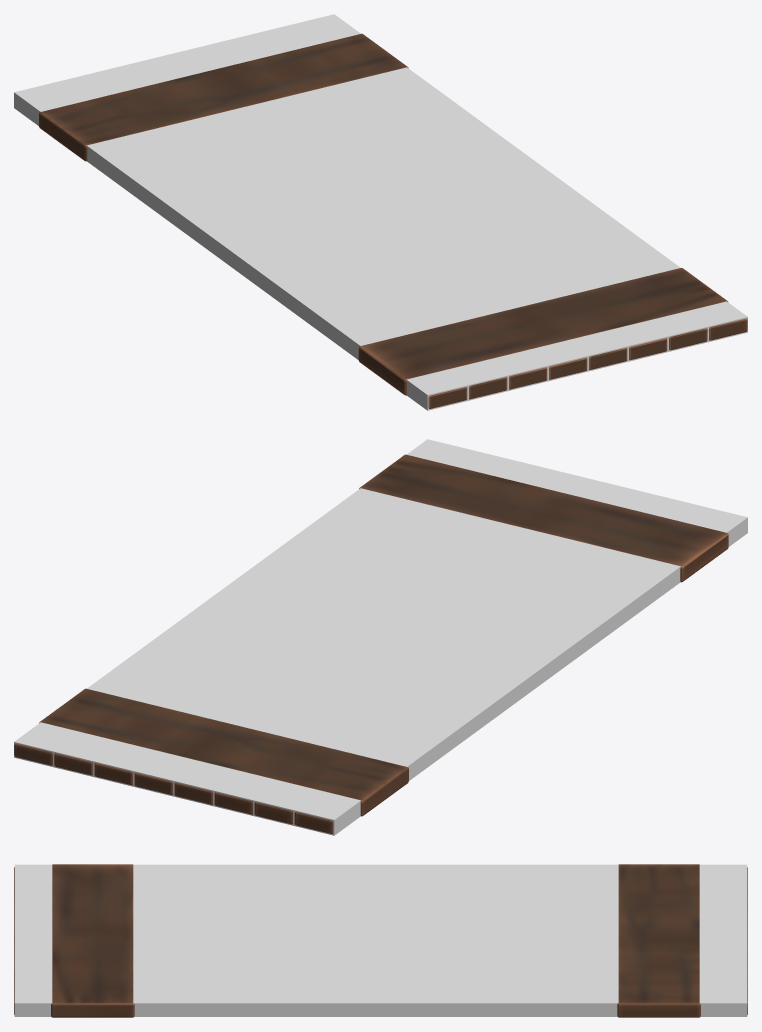
Rendered from WoodPlank.glb.
The picture shows the model from 3 angles, top to bottom: view 1: azimuth 30°, elevation 25°; view 2: azimuth 150°, elevation 25°; view 3: azimuth 270°, elevation 25°; orthographic projection. The views are drawn at different scales.
Visible parts, largest first — view 1: Cube.colonly, Cube; view 2: Cube.colonly, Cube; view 3: Cube.colonly, Cube.
Boxes of the visible parts, x1,y1,x2,y2 form: Cube.colonly: [14, 14, 747, 410]; Cube: [39, 33, 747, 408]; Cube.colonly: [14, 439, 747, 835]; Cube: [14, 454, 728, 833]; Cube.colonly: [14, 864, 747, 1016]; Cube: [14, 864, 747, 1017].
Size of the model in its own units: 7.94 by 0.3798 by 17.57.
Materials: 1 (1 with a texture image).
